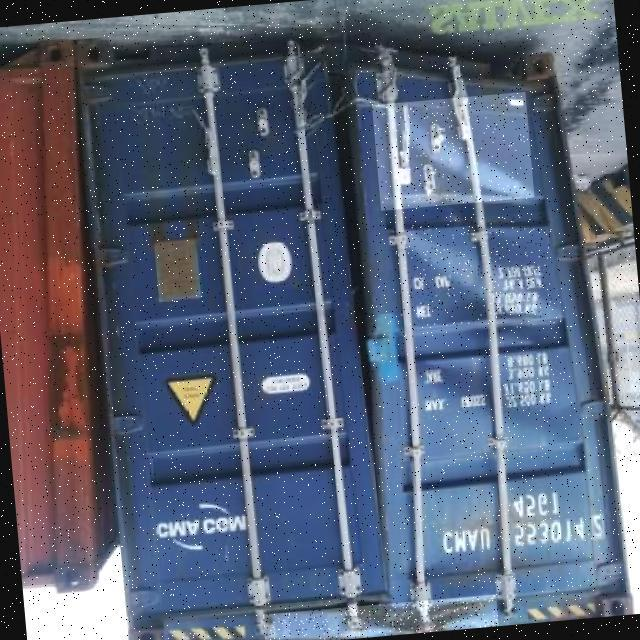Dent: (372, 91, 535, 210), (262, 594, 498, 640)
Minor-Dent: (392, 211, 561, 337)
